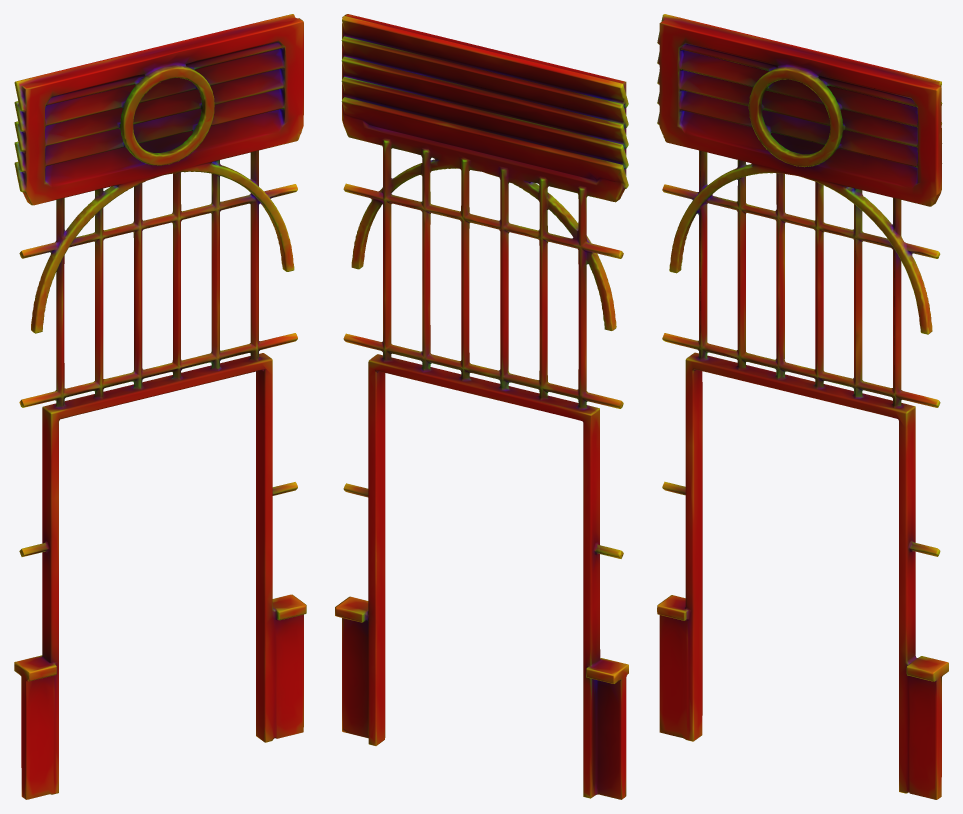
File: Wall_Door.fbx
3 renders of one model, left to right at view 1: azimuth 30°, elevation 25°; view 2: azimuth 150°, elevation 25°; view 3: azimuth 330°, elevation 25°, orthographic.
Visible parts, largest first — view 1: transform1; view 2: transform1; view 3: transform1.
Part boxes in pixels (x1,y1,x2,y2): transform1: [14, 14, 306, 799]; transform1: [335, 14, 628, 799]; transform1: [657, 14, 948, 799].
Size of the model in its own units: 248 by 25.53 by 603.
